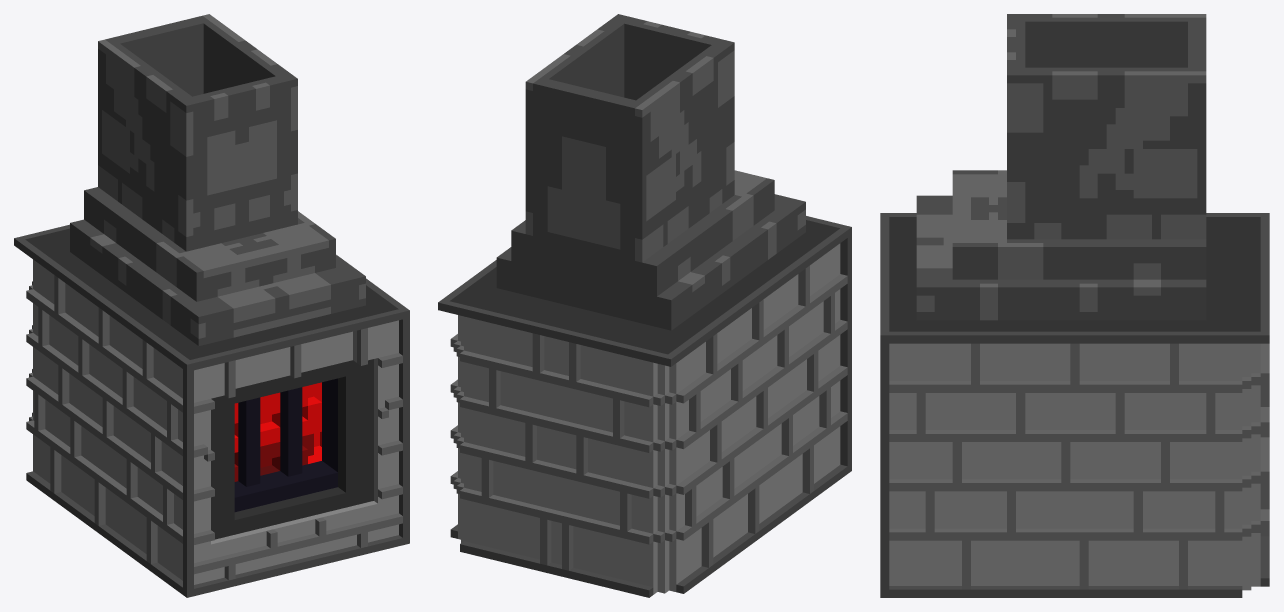
File: Medieval Assets-362-Building - Equipment - Stove.obj
3 renders of one model, left to right at view 1: azimuth 30°, elevation 25°; view 2: azimuth 150°, elevation 25°; view 3: azimuth 270°, elevation 25°, orthographic. The views are drawn at different scales.
Parts seen in each view (by area): view 1: Building - Equipment - Stove; view 2: Building - Equipment - Stove; view 3: Building - Equipment - Stove.
Part boxes in pixels (x1,y1,x2,y2): Building - Equipment - Stove: [14, 14, 409, 597]; Building - Equipment - Stove: [438, 14, 851, 597]; Building - Equipment - Stove: [880, 14, 1269, 597].
Size of the model in its own units: 3.2 by 6 by 4.3.
1 material, 1 textured.
